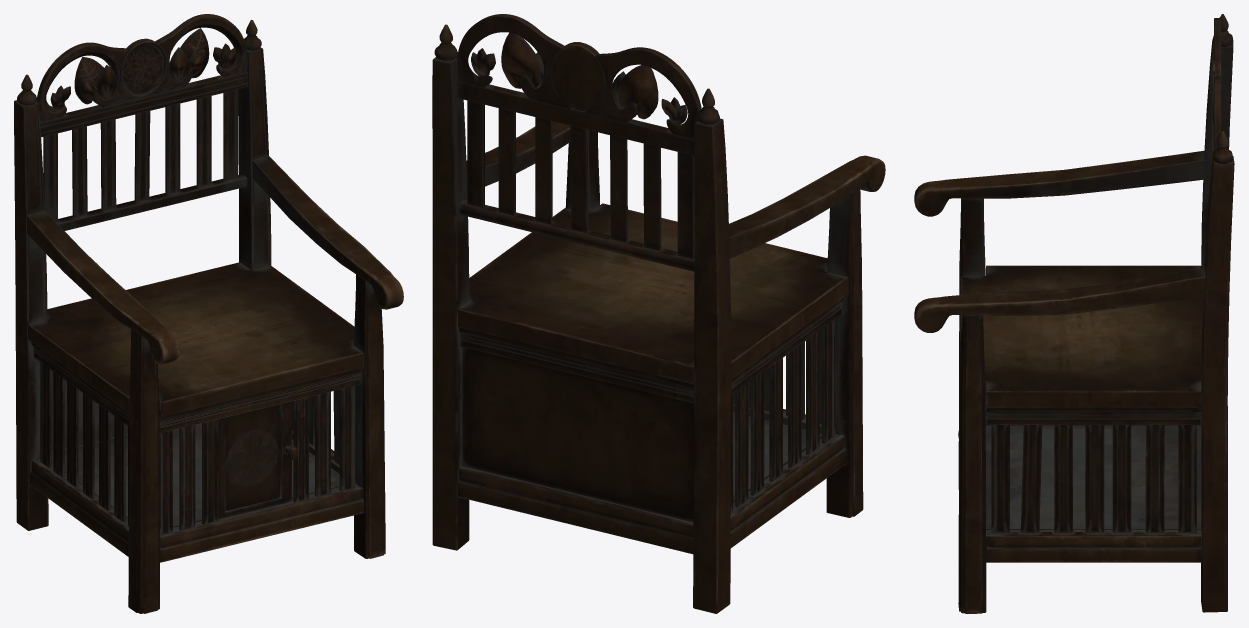
File: b32f180a-a041-4b01-bcfb-5ff8e6794699.glb
3 views of the same model, side by side, from view 1: azimuth 30°, elevation 25°; view 2: azimuth 150°, elevation 25°; view 3: azimuth 270°, elevation 25° (orthographic). The views are drawn at different scales.
Visible parts, largest first — view 1: gallinera_chair; view 2: gallinera_chair; view 3: gallinera_chair.
Boxes of the visible parts, x1,y1,x2,y2 form: gallinera_chair: [14, 14, 403, 613]; gallinera_chair: [432, 14, 885, 613]; gallinera_chair: [914, 14, 1234, 613].
Bounding box in the file's own units: 0.5808 × 1.03 × 0.6039.
Materials: 1 (1 with a texture image).
